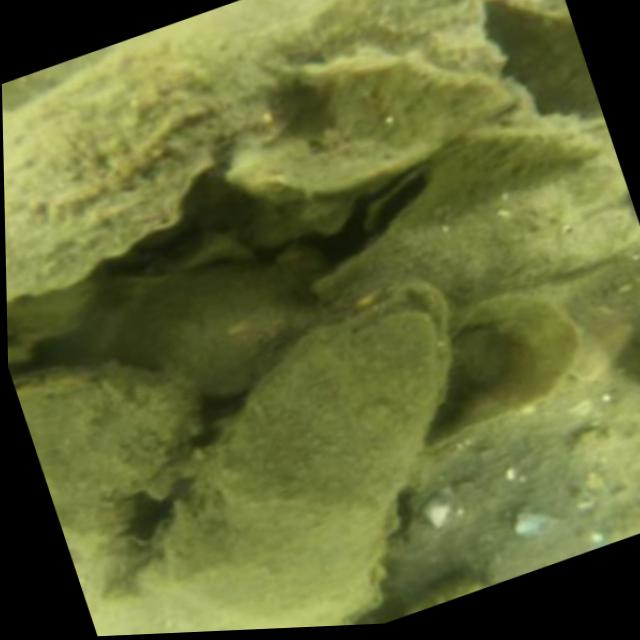Oyster-Closed: (163, 280, 456, 630), (221, 47, 534, 206)
Oyster-Indeterminate: (3, 20, 314, 311), (319, 126, 623, 315), (393, 418, 640, 607), (30, 357, 200, 551), (83, 259, 313, 396), (412, 288, 583, 451), (300, 0, 513, 75), (487, 0, 568, 17)
